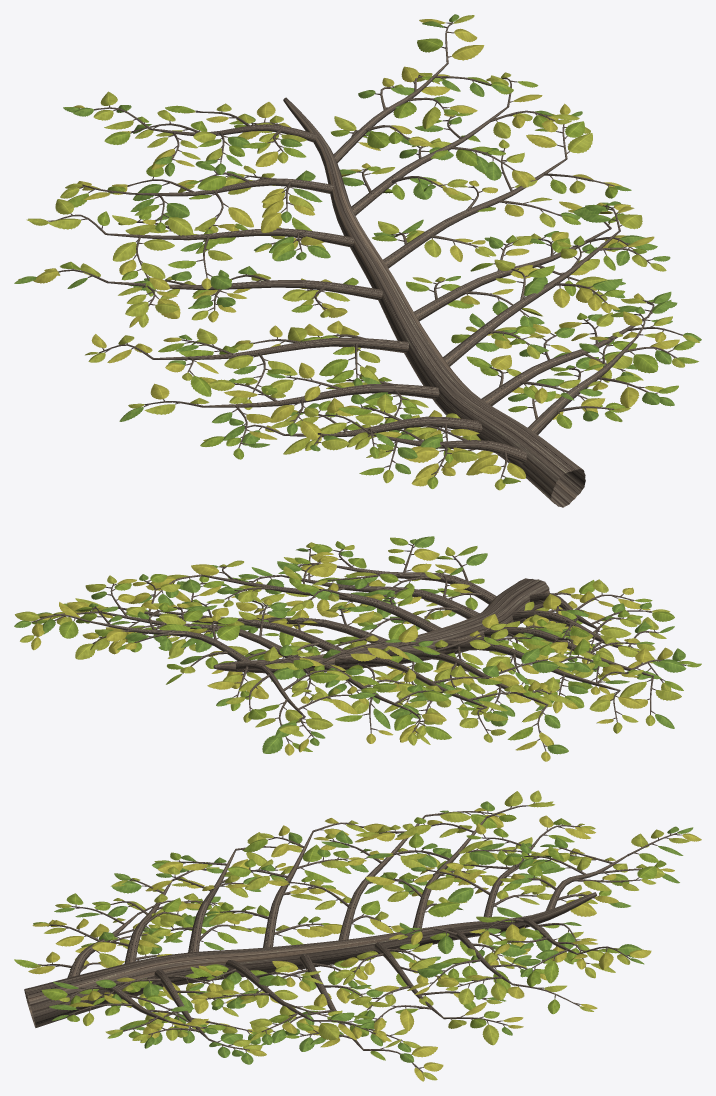
The model's file is SM_Valley_HazelBough.fbx.
3 renders of one model, top to bottom at view 1: azimuth 30°, elevation 25°; view 2: azimuth 150°, elevation 25°; view 3: azimuth 270°, elevation 25°, orthographic. The views are drawn at different scales.
Visible parts, largest first — view 1: SM_Valley_HazelBough; view 2: SM_Valley_HazelBough; view 3: SM_Valley_HazelBough.
Boxes of the visible parts, <box> form: SM_Valley_HazelBough: <box>14,14,701,507</box>; SM_Valley_HazelBough: <box>14,536,701,761</box>; SM_Valley_HazelBough: <box>14,790,701,1081</box>.
Bounding box in the file's own units: 9.72 × 11.08 × 3.02.
2 materials, 2 textured.
